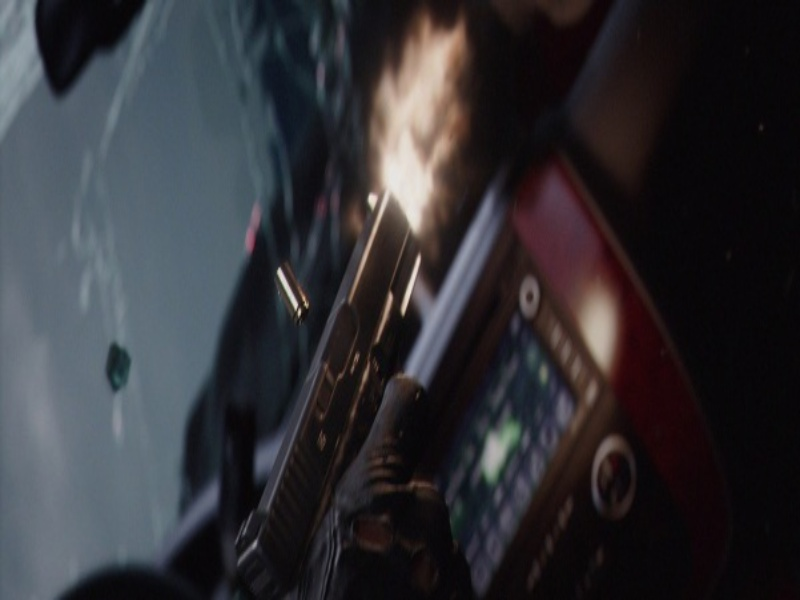weapon: (239, 192, 425, 587)
